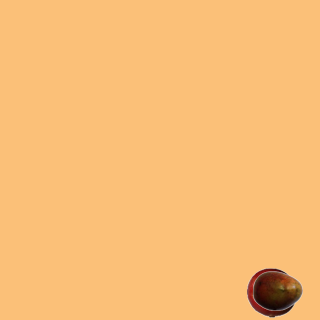Apple Braeburn: (246, 267, 296, 317)
Mango Red: (252, 265, 302, 315)
